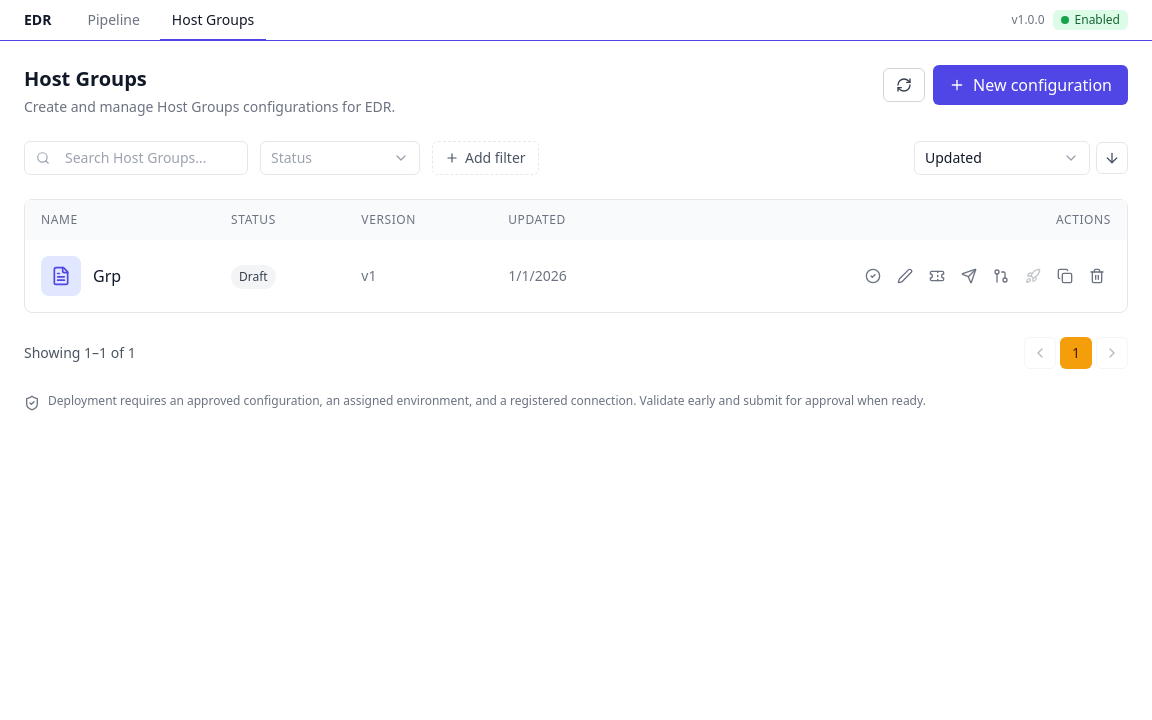
Test: AppConfigTypePage › validates a configuration and shows field-level errors
The image size is (1152, 720).
Expected: the button "Grp" is shown, x1=93 y1=264 x2=121 y2=288
Click the button named "Validate" at coordinates (873, 276), box x1=859 y1=262 x2=887 y2=290
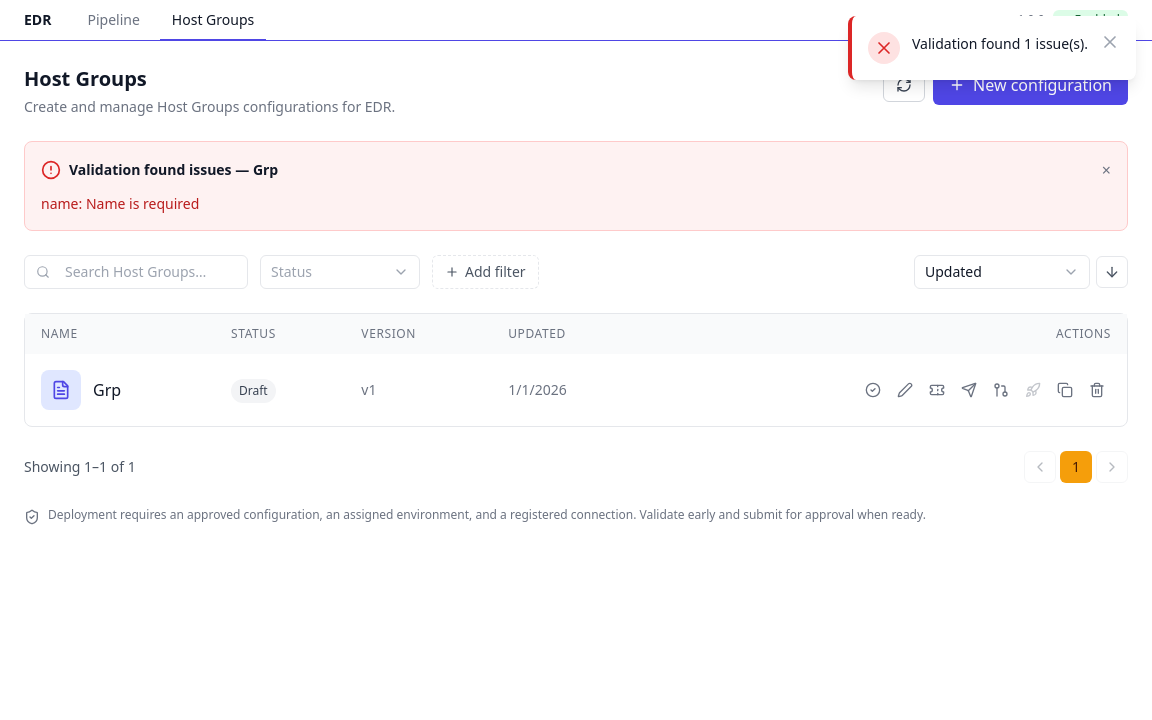
Now the list item "Name is required" is shown, box x1=86 y1=194 x2=199 y2=213
